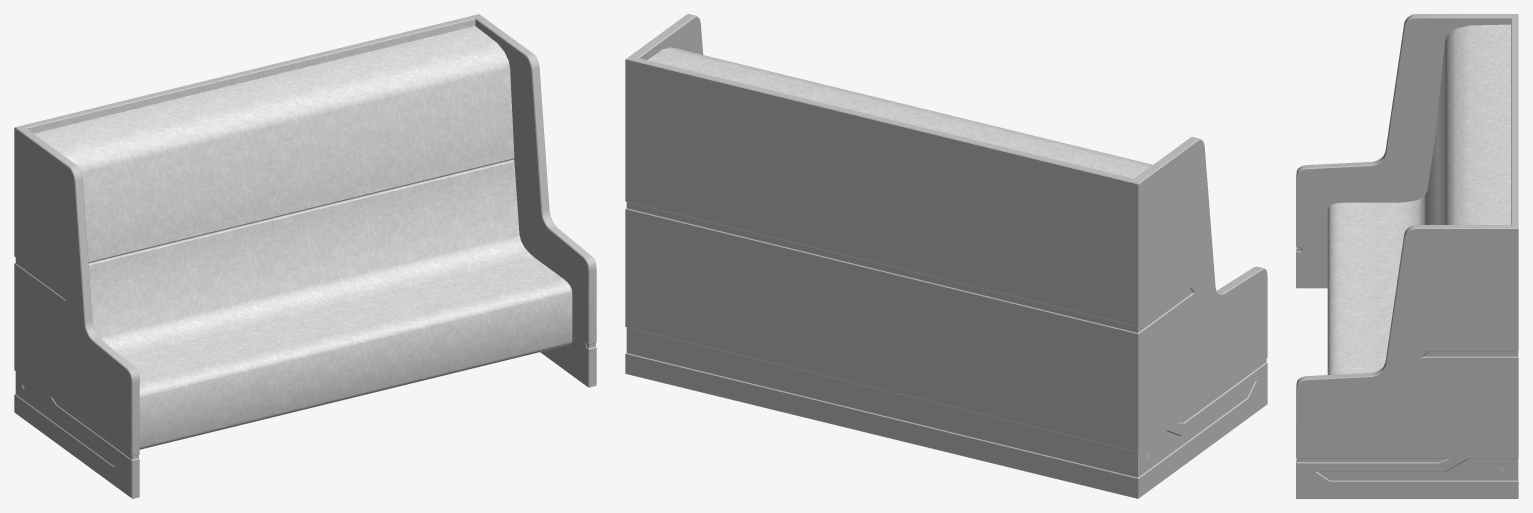
File: D_Bench_001.fbx
3 renders of one model, left to right at view 1: azimuth 30°, elevation 25°; view 2: azimuth 150°, elevation 25°; view 3: azimuth 270°, elevation 25°, orthographic. The views are drawn at different scales.
Parts seen in each view (by area): view 1: D_Bench_001; view 2: D_Bench_001; view 3: D_Bench_001.
Part boxes in pixels (x1,y1,x2,y2): D_Bench_001: (14, 14, 596, 498); D_Bench_001: (625, 14, 1267, 498); D_Bench_001: (1296, 14, 1518, 498).
Bounding box in the file's own units: 2.69 × 1.58 × 1.18.
